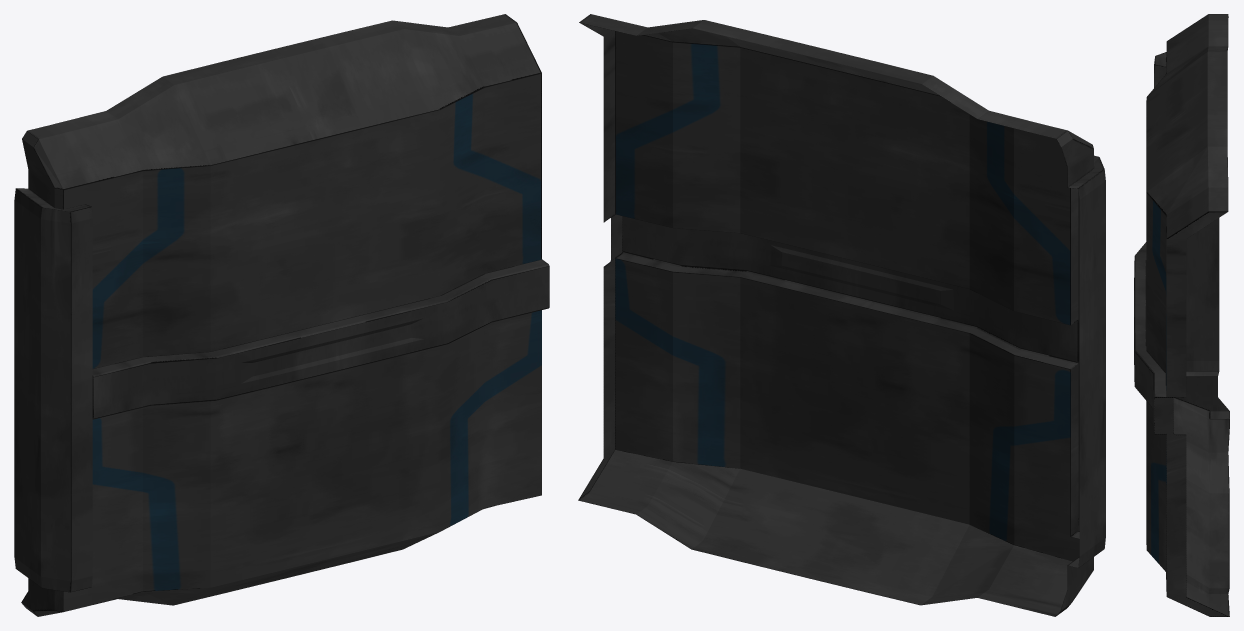
The model's file is Ceiling.FBX.
The picture shows the model from 3 angles, left to right: view 1: azimuth 30°, elevation 25°; view 2: azimuth 150°, elevation 25°; view 3: azimuth 270°, elevation 25°; orthographic projection. The views are drawn at different scales.
Bounding box in the file's own units: 98.84 × 19.52 × 99.3.
1 material, 1 textured.
